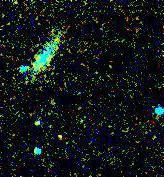star: (47, 119, 77, 149)
